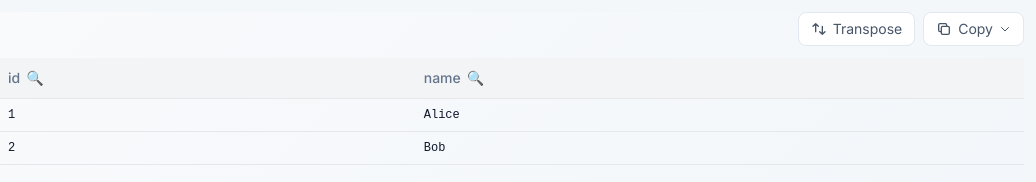
Scenario: DataTable › sends filter params on the second fetch and reflects filtered count in badge
This screenshot has width=1036, height=182.
Expected: the text "Alice" is shown, left=416, top=98, right=1024, bottom=132
Open the filter dropdown for the "name" column.
Click the button titled "Filter by name" next to "name".
click(476, 78)  # box left=465, top=66, right=486, bottom=90
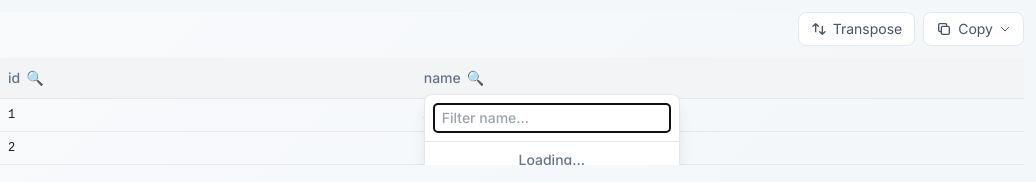
Type a value and apply it with Enter.
Type "Alice" into the field with placeholder "Filter name...".
click(552, 118); type("Alice")  # box left=433, top=103, right=671, bottom=133
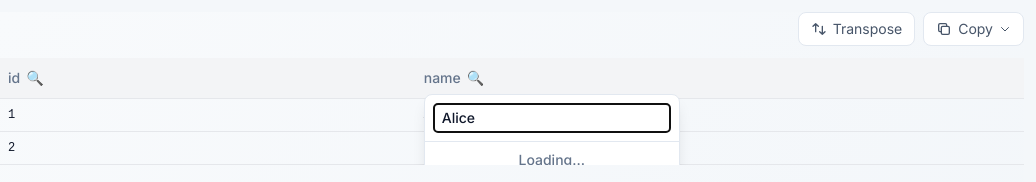
Press Enter in the field with placeholder "Filter name...", box left=433, top=103, right=671, bottom=133
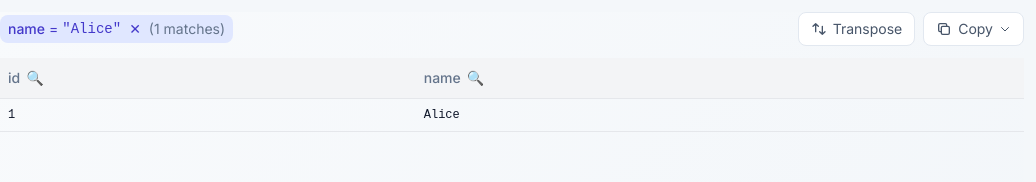
Expected: the text "(1 matches)" is shown, left=149, top=19, right=225, bottom=39
